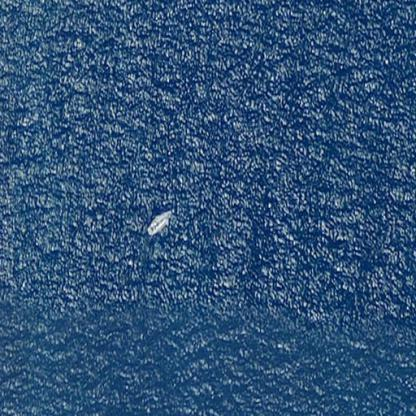ship: (146, 208, 170, 236)
